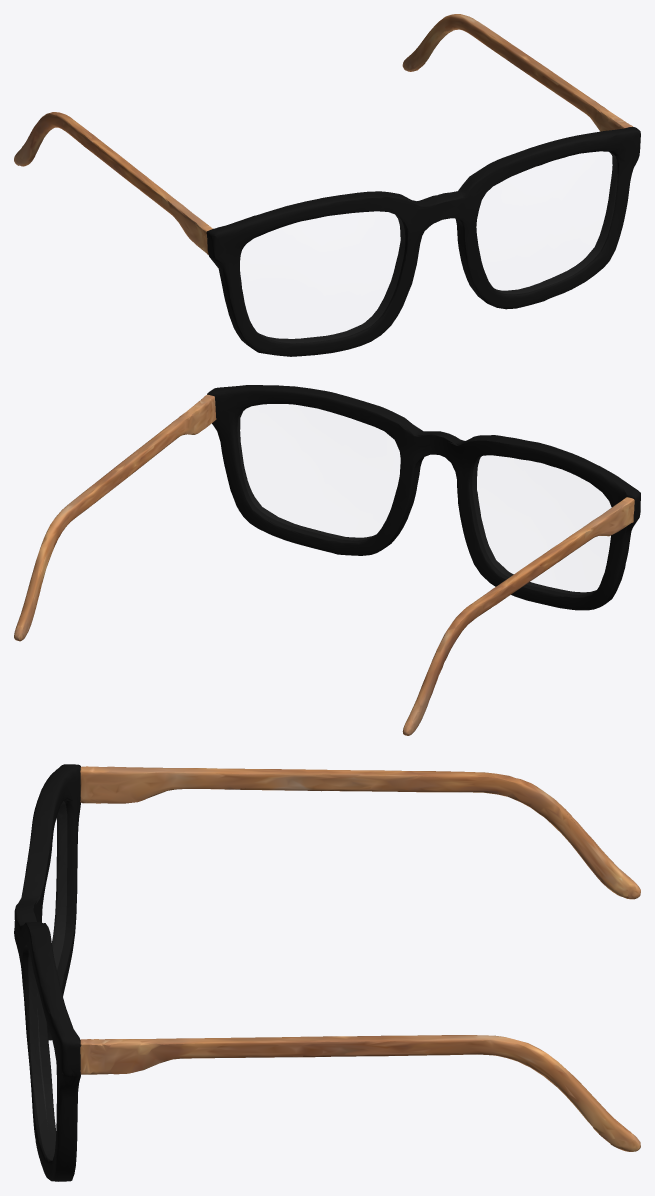
The model's file is black_wood_frames.glb.
The picture shows the model from 3 angles, top to bottom: view 1: azimuth 30°, elevation 25°; view 2: azimuth 150°, elevation 25°; view 3: azimuth 270°, elevation 25°; orthographic projection. The views are drawn at different scales.
Visible parts, largest first — view 1: Frame, ArmLeft, ArmRight; view 2: Frame, ArmRight, ArmLeft; view 3: Frame, ArmRight, ArmLeft.
Part boxes in pixels (<box>): Frame: <box>206,126,640,356</box>; ArmLeft: <box>402,14,633,131</box>; ArmRight: <box>14,112,212,254</box>; Frame: <box>207,385,640,610</box>; ArmRight: <box>402,497,634,735</box>; ArmLeft: <box>14,394,216,641</box>; Frame: <box>14,764,80,1181</box>; ArmRight: <box>80,766,640,899</box>; ArmLeft: <box>80,1035,640,1151</box>.
Size of the model in its own units: 0.1406 by 0.0483 by 0.1335.
